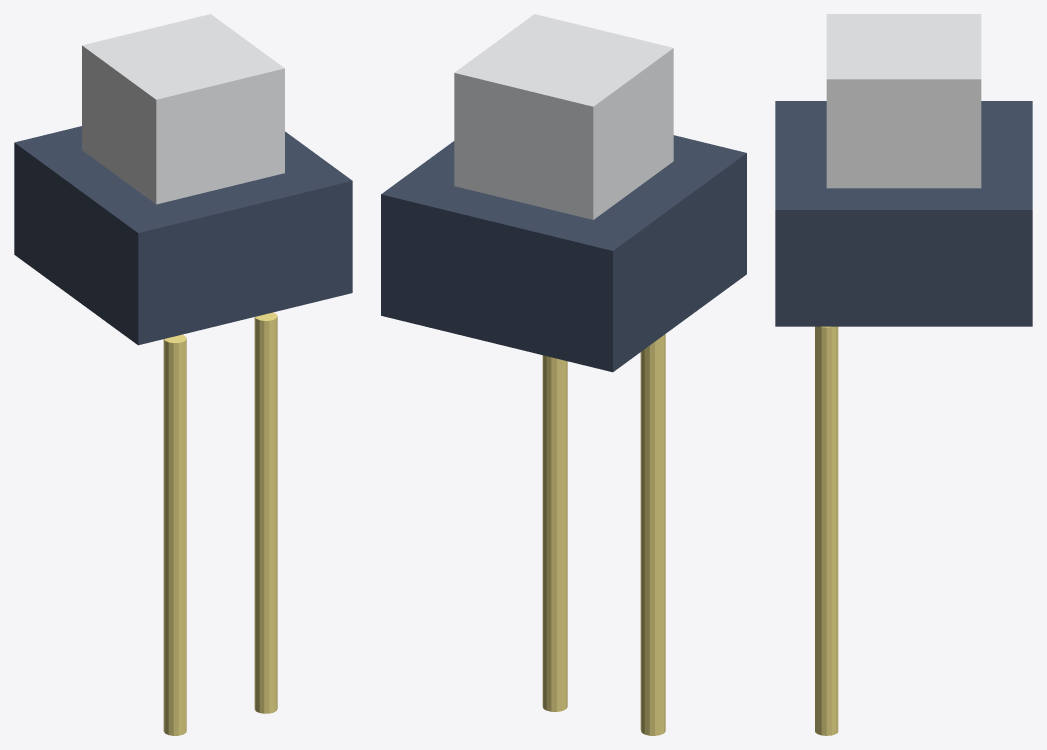
File: pushbutton.glb
3 views of the same model, side by side, from view 1: azimuth 30°, elevation 25°; view 2: azimuth 150°, elevation 25°; view 3: azimuth 270°, elevation 25° (orthographic). The views are drawn at different scales.
Visible parts, largest first — view 1: pushbutton-6mm_mesh; view 2: pushbutton-6mm_mesh; view 3: pushbutton-6mm_mesh.
Boxes of the visible parts, x1,y1,x2,y2 form: pushbutton-6mm_mesh: [14, 14, 352, 735]; pushbutton-6mm_mesh: [381, 14, 746, 735]; pushbutton-6mm_mesh: [775, 14, 1032, 735].
Size of the model in its own units: 6 by 17 by 6.
